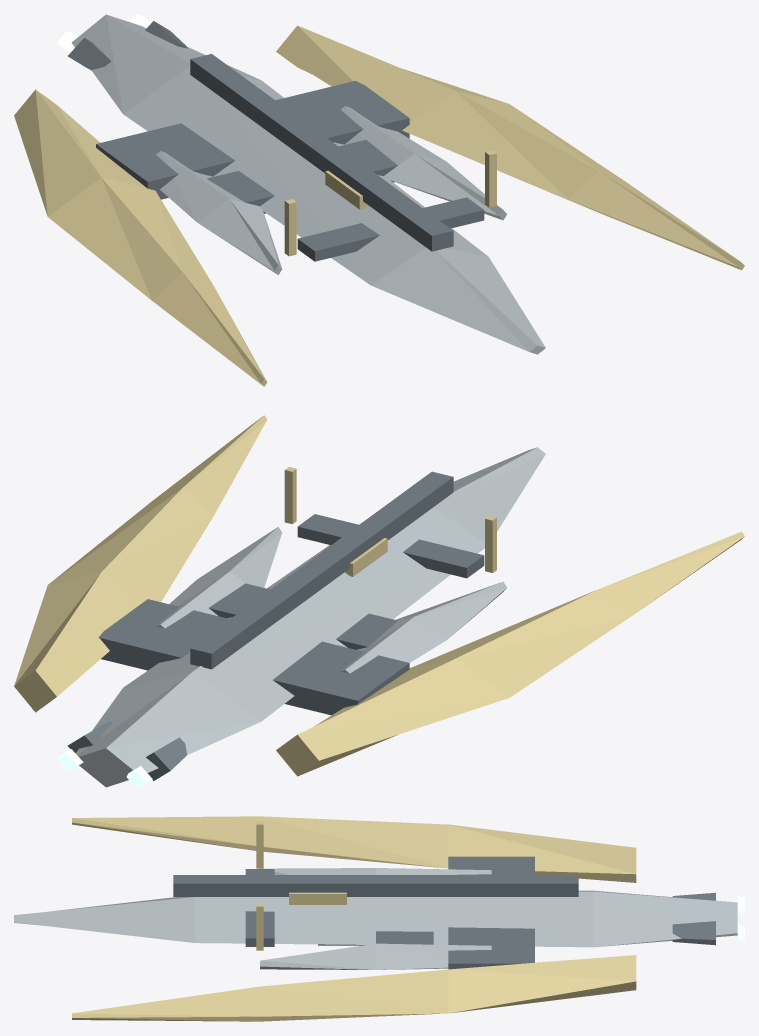
3 views of the same model, one above another, from view 1: azimuth 30°, elevation 25°; view 2: azimuth 150°, elevation 25°; view 3: azimuth 270°, elevation 25° (orthographic). The views are drawn at different scales.
Bounding box in the file's own units: 6.41 × 1.24 × 10.
